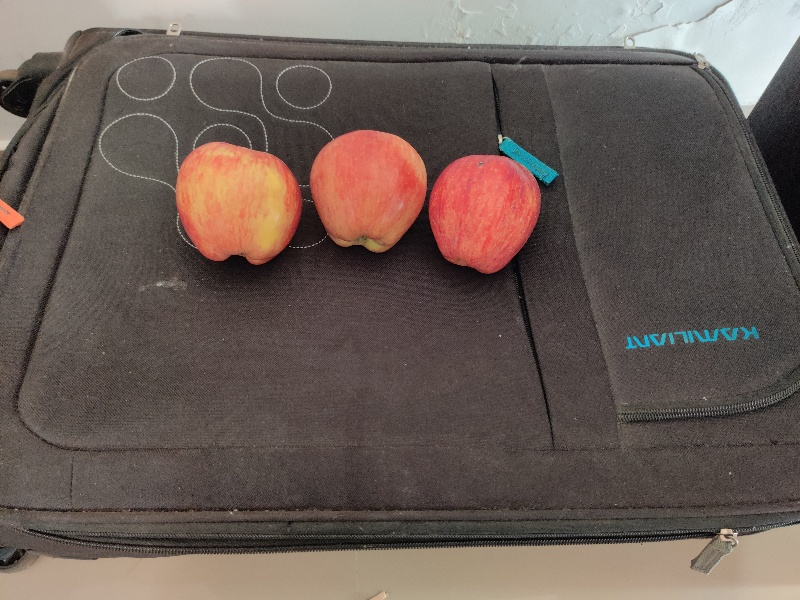apple: (171, 135, 298, 266), (427, 136, 544, 275), (306, 125, 431, 255)
